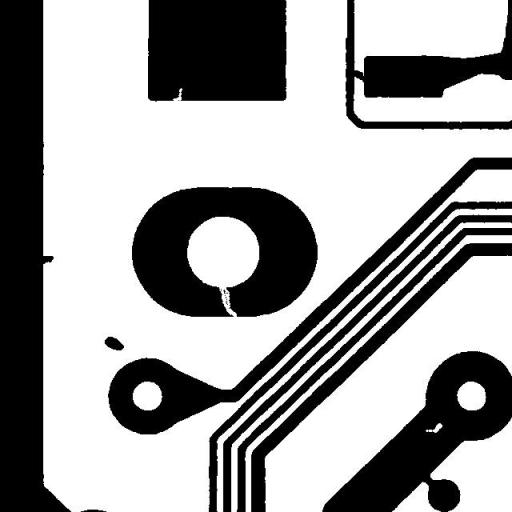copper: (97, 328, 131, 358)
mousebite: (164, 80, 190, 108)
open: (210, 275, 244, 325)
pin-hole: (418, 415, 450, 440)
short: (344, 62, 374, 90)
spur: (31, 248, 61, 273)
